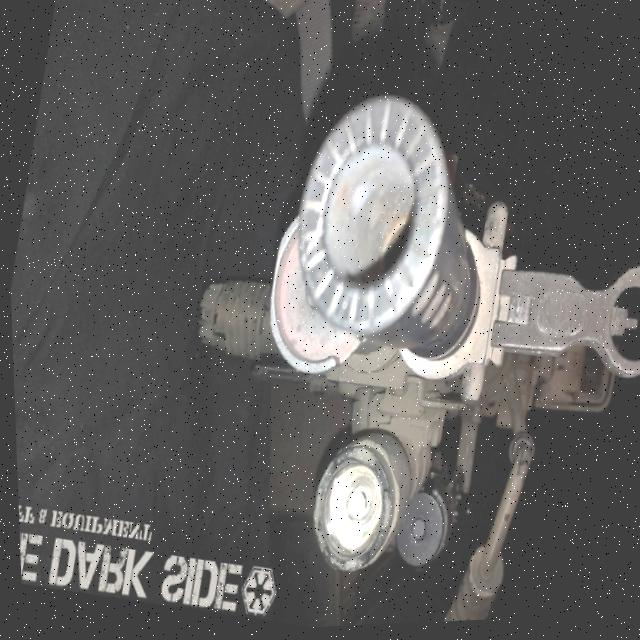firearm: (126, 56, 640, 636)
